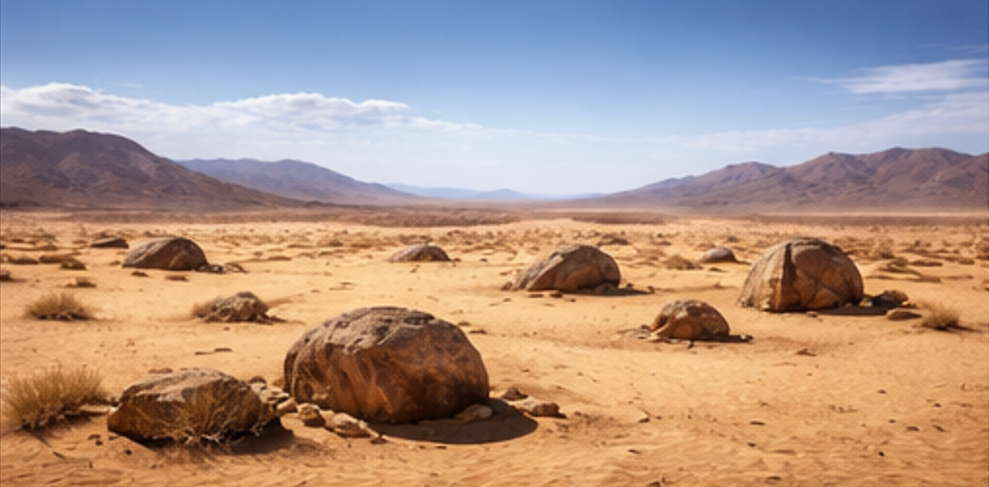rocks: (285, 306, 487, 422), (106, 368, 275, 440), (739, 238, 862, 309), (510, 244, 620, 291), (651, 300, 729, 339), (124, 236, 206, 269), (194, 291, 269, 321), (389, 244, 450, 260), (698, 245, 737, 262)
